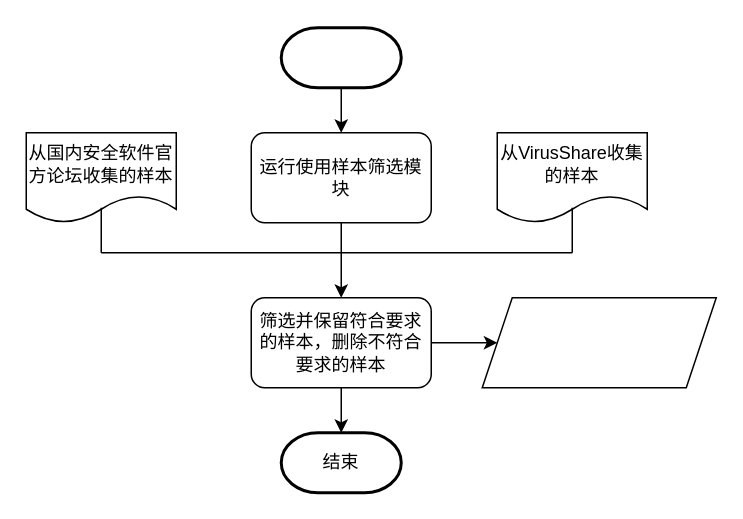
Image size: 743x519. Some labels were removed from this diagram. The shapes that lost their labels are listed below. From the top down, each one's centre as x and y in pixels, then its label:
At [340,57]: "开始".
At [598,342]: "筛选后且文件大小 合适的原始恶意程序 样本集".
